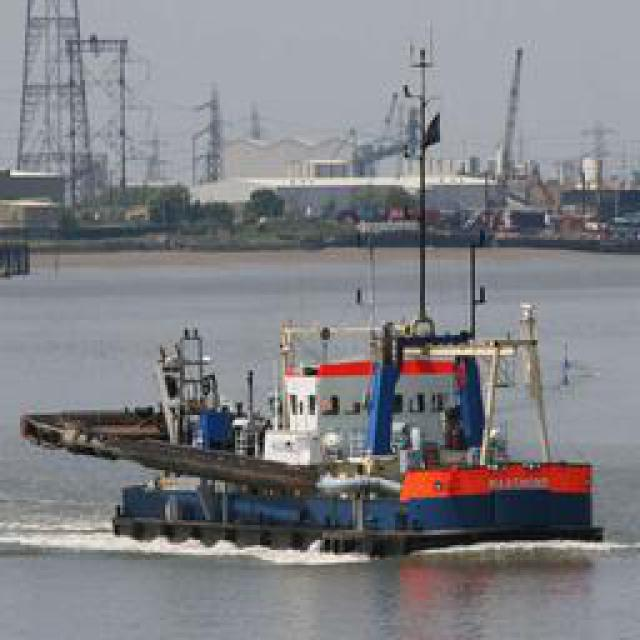Ship: (24, 318, 616, 568)
